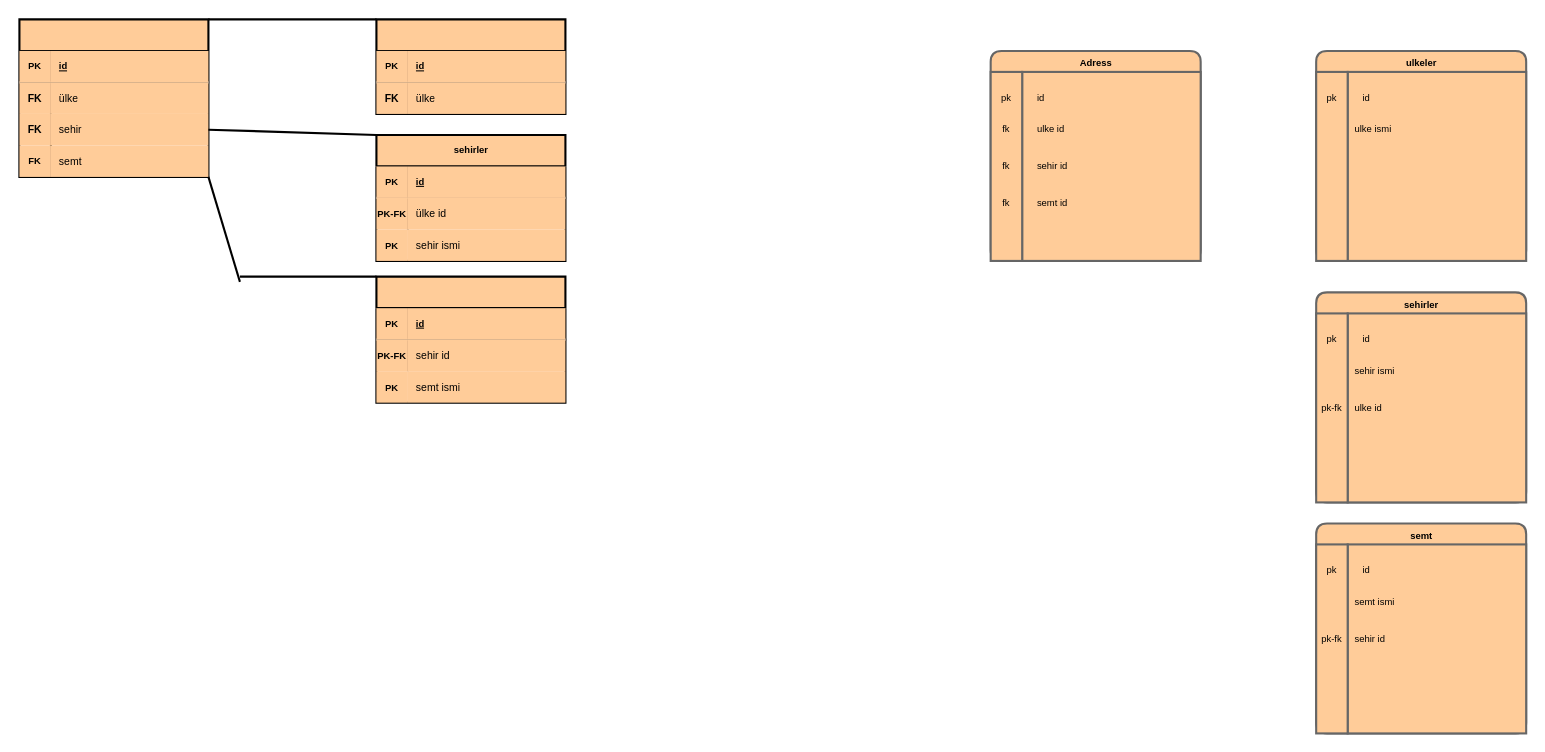
The diagram is 1545 pixels wide and 752 high, and some of its shapes have lost their labels. The shapes that lost their labels are listed below. From the top down, each one's box as (x1, y1, x2, y2) in pixels, then its label:
(375, 18, 566, 114): ülkeler
(18, 18, 209, 177): Adresler
(375, 275, 566, 403): semtler
